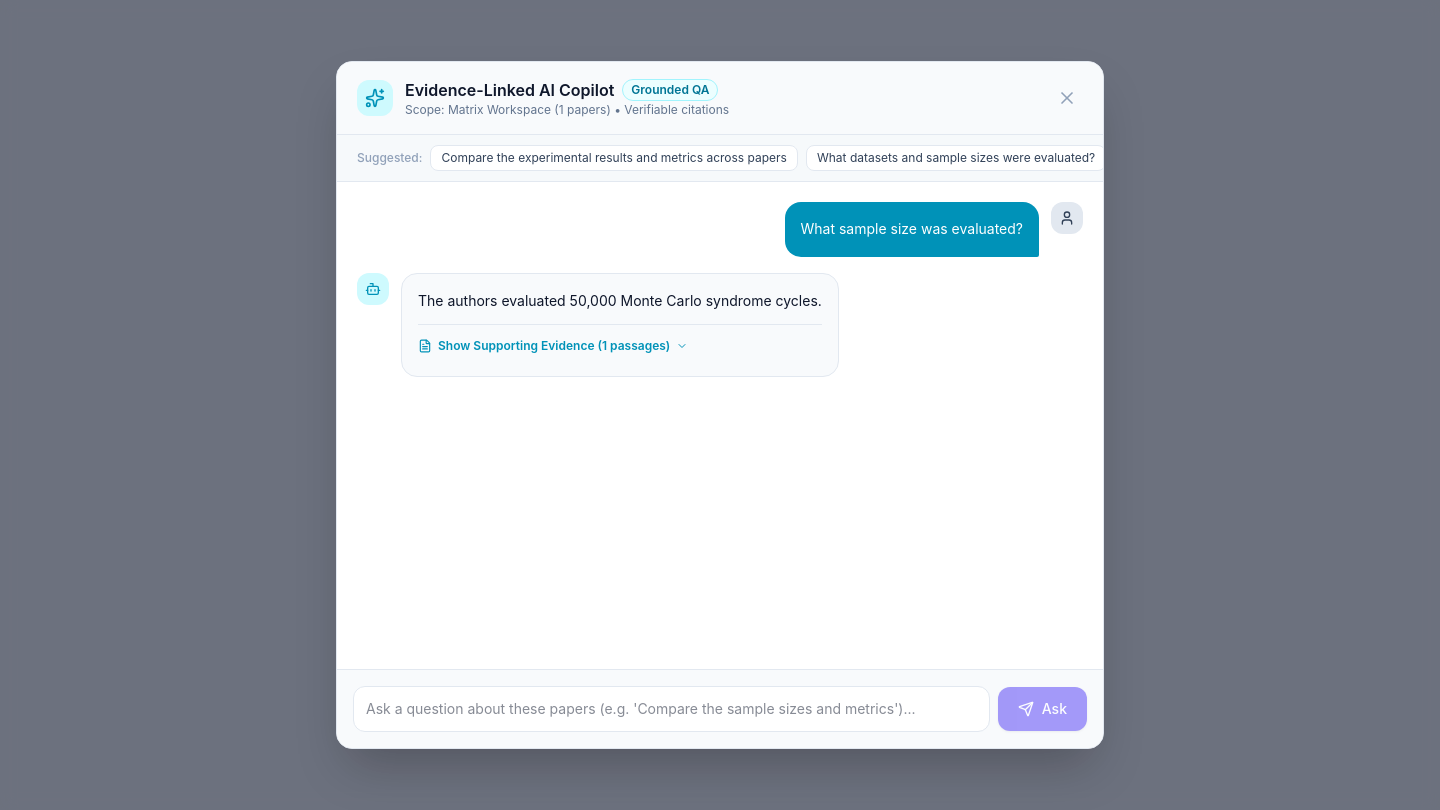
Test: Literature Review Matrix & Evidence-Linked Copilot Suite › renders EvidenceCopilotModal with suggested prompts, QA, and grounded evidence chips
Expected: the text "Evidence-Linked AI Copilot" is shown, [405,78,614,102]
Expected: the text "What sample size was evaluated?" is shown, [800,218,1023,241]
// Expand evidence
Click the button "Show Supporting Evidence (1 passages)".
click(553, 346)  # box [418,338,688,354]
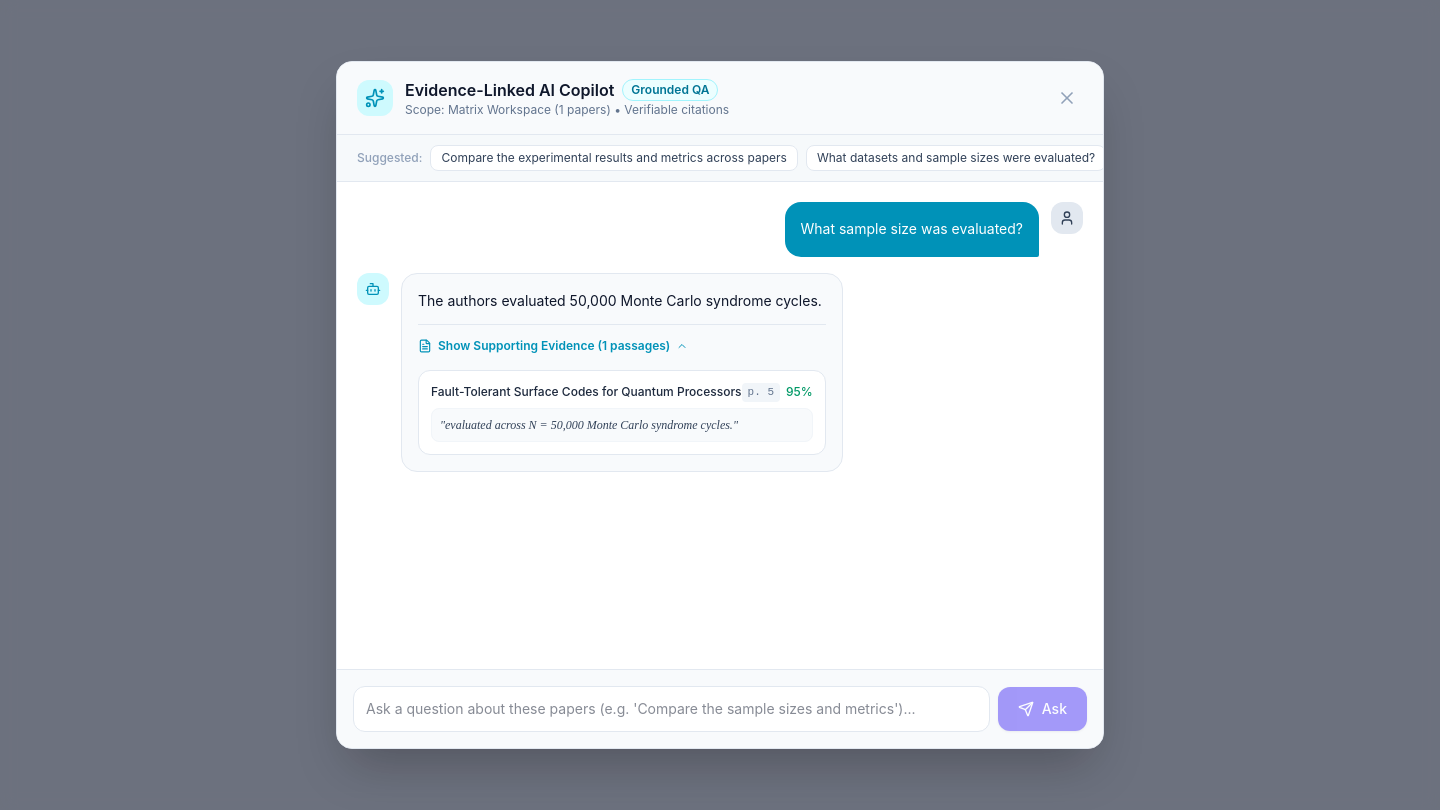
Expected: the text "\"evaluated across N = 50,000 Monte Carlo syndrome cycles.\"" is shown, [431,408,813,442]
Expected: the text "p. 5" is shown, [742,383,780,402]
